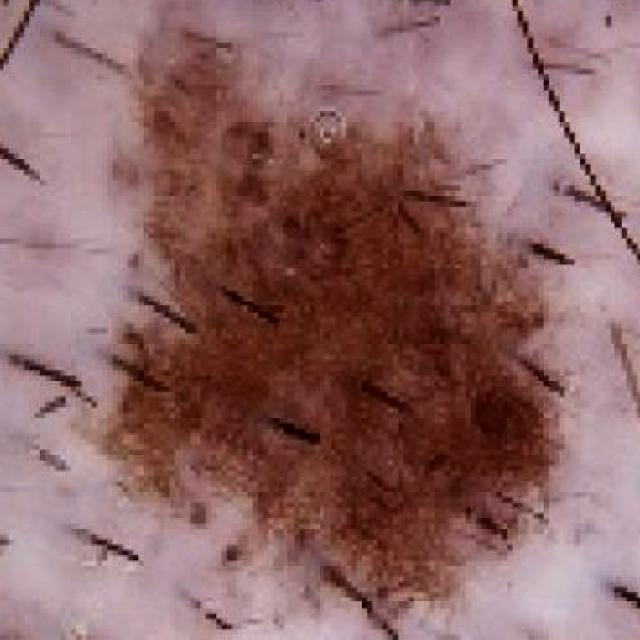BKL: (72, 22, 564, 638)
